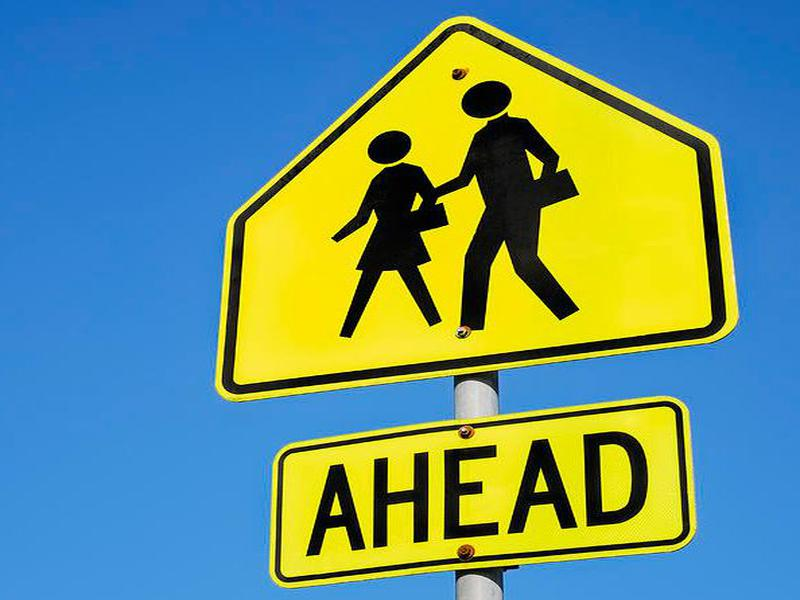slow: (200, 22, 747, 363)
